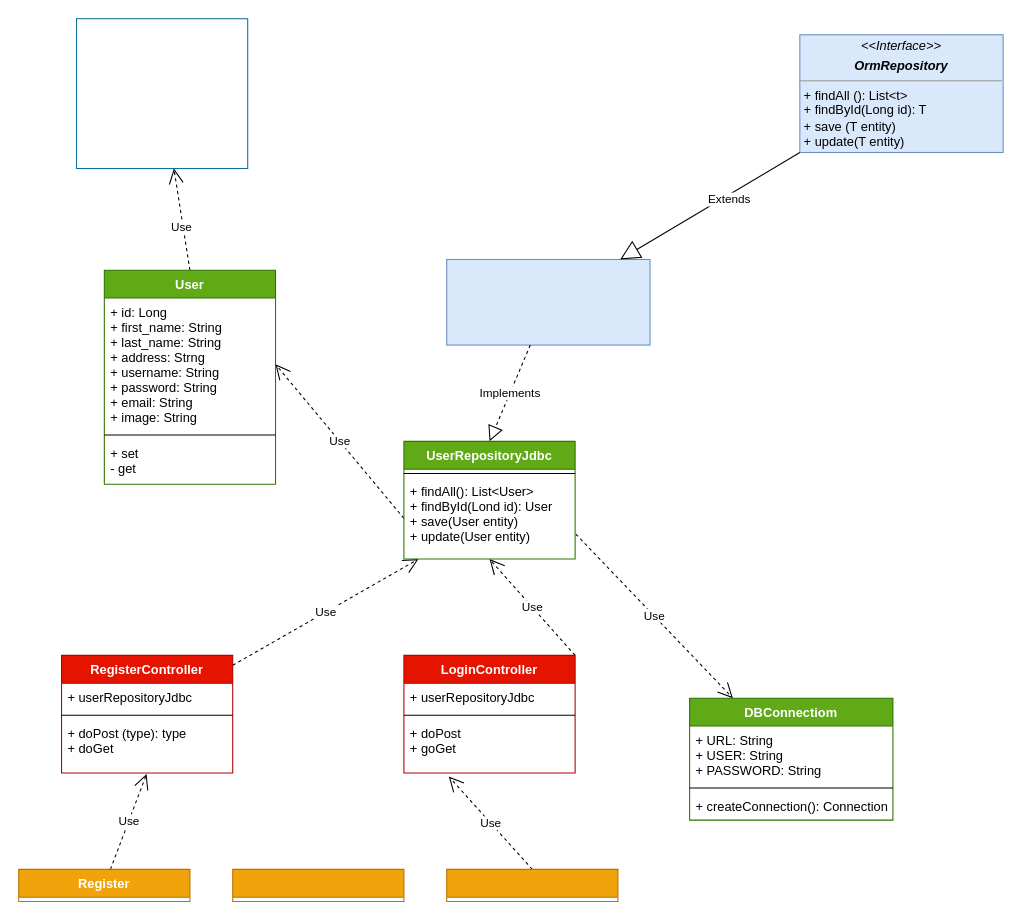
Image size: 1022x920. Some labels were removed from this diagram. The centre of each missing label's shape, as x and y in pixels:
"<<Interface>> UserRepository" goes at pixel 548 301.
"Login" goes at pixel 532 884.
"Profile" goes at pixel 318 884.
"user_table PK user_id first_name last_name address username password email image" goes at pixel 161 93.
